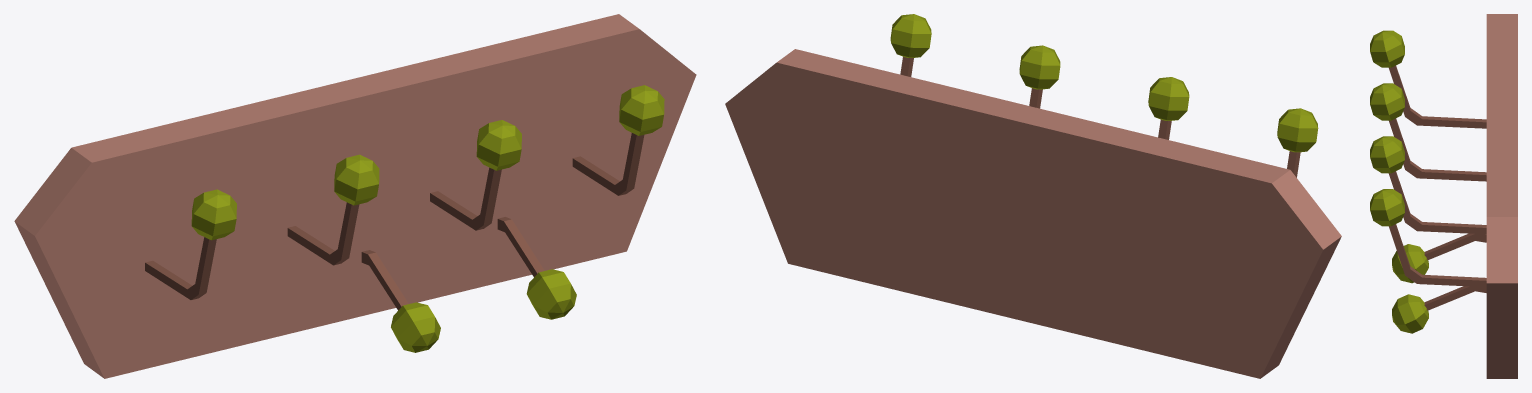
File: Towel_Stand.fbx
3 views of the same model, side by side, from view 1: azimuth 30°, elevation 25°; view 2: azimuth 150°, elevation 25°; view 3: azimuth 270°, elevation 25° (orthographic). The views are drawn at different scales.
Parts seen in each view (by area): view 1: Towel_Stand; view 2: Towel_Stand; view 3: Towel_Stand.
Boxes of the visible parts, <box> form: Towel_Stand: <box>14,14,696,378</box>; Towel_Stand: <box>725,14,1341,378</box>; Towel_Stand: <box>1370,14,1517,378</box>.
Size of the model in its own units: 3.32 by 1.07 by 0.8456.
